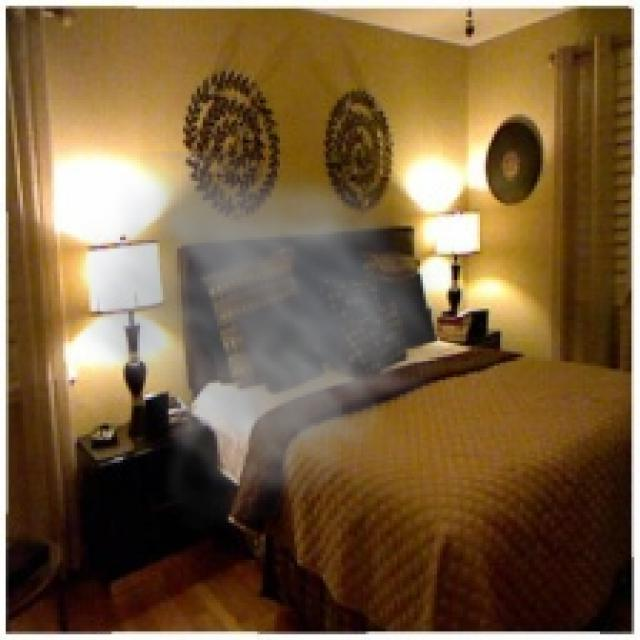Smoke: (68, 152, 460, 534)
